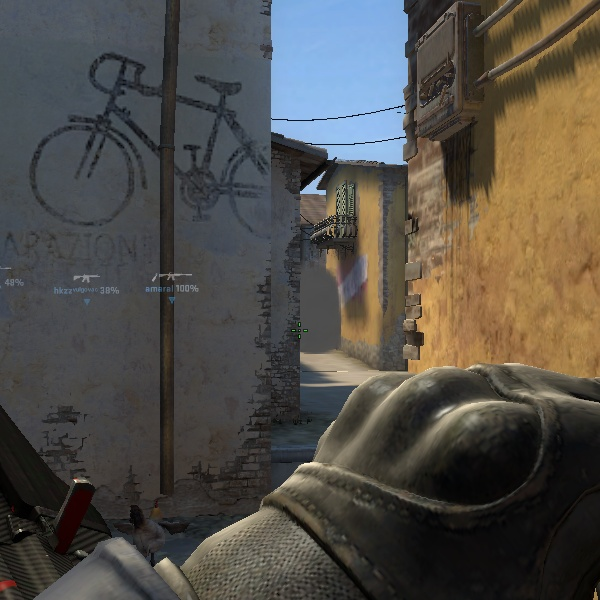ct_head: (326, 328, 584, 555)
